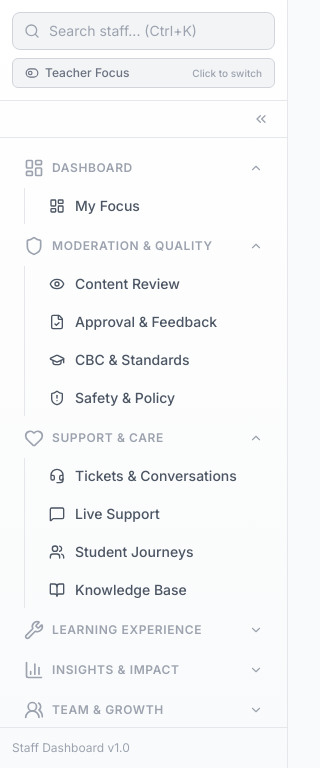
Test: StaffSidebar › collapses an open section on click
This screenshot has width=320, height=768.
expect the text "My Focus" is shown: met, box top-left (75, 196), bottom-right (140, 216)
Note: Click the section header to close it
What coordinates should you click on to do the following:
click the button "DASHBOARD"
I would click on:
 (92, 168)
Its box is top-left (12, 150), bottom-right (275, 186).
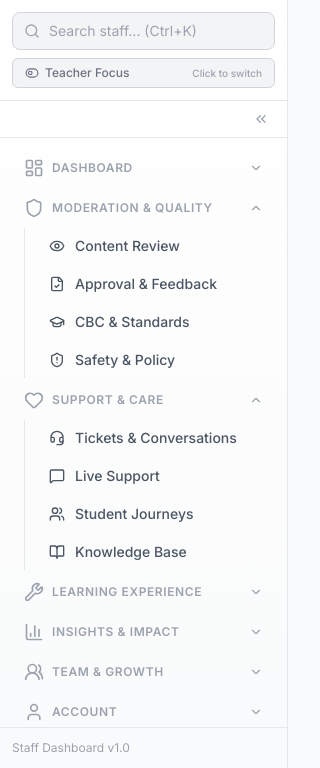
expect the button "My Focus" is gone: met
